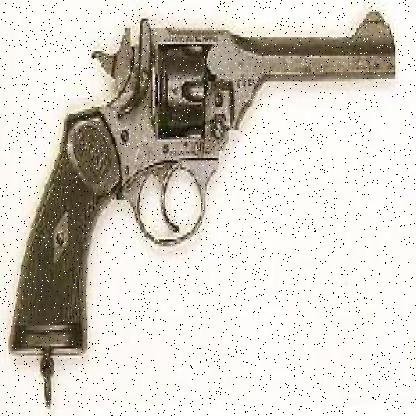pistol: (4, 9, 399, 358)
